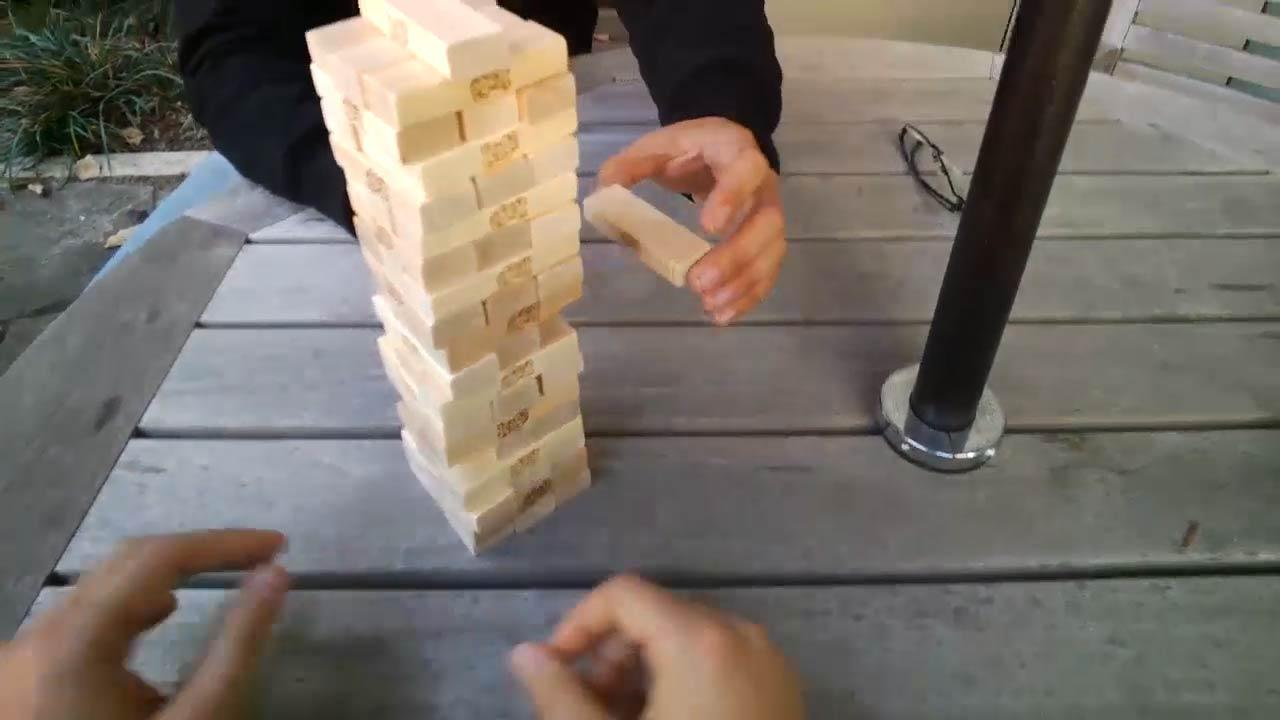hand: (2, 518, 288, 720), (502, 567, 838, 720), (599, 118, 785, 316)
